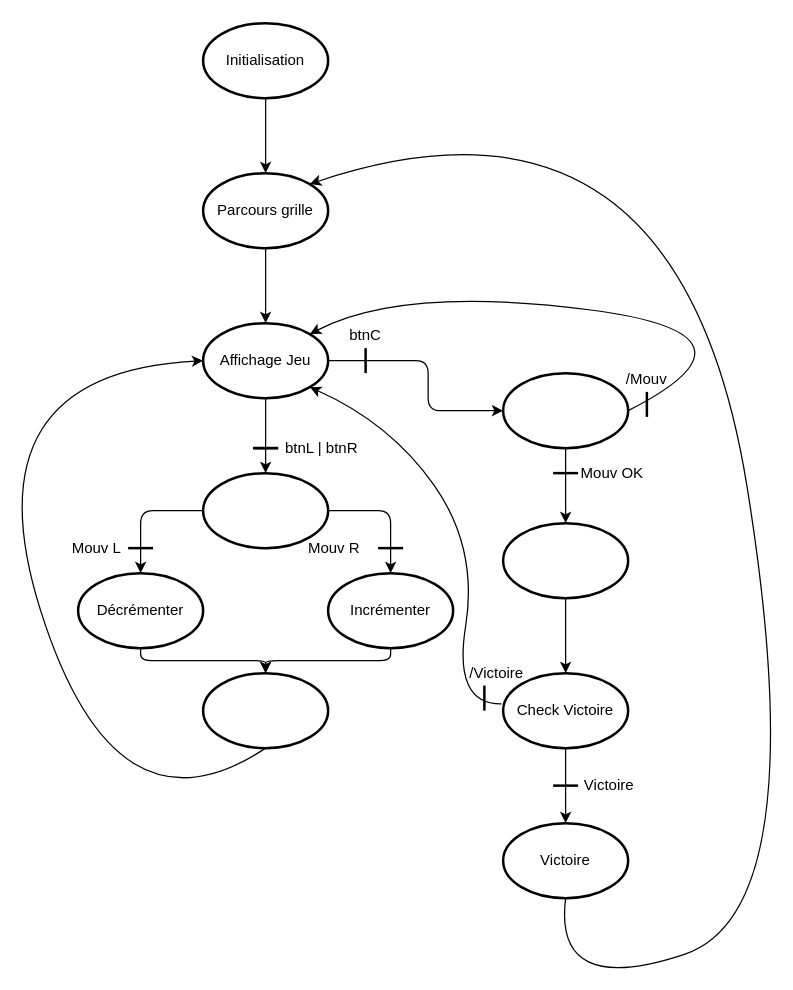
This 793x990 diagram has some shape labels left out. The shapes that lost their labels are listed below. From the top down, each one's box as (x1, y1, x2, y2) in pixels, then its label:
(501, 371, 629, 449): Check Mouvement
(201, 471, 329, 549): Effacer Position
(501, 521, 629, 599): Ecriture Mouvement
(201, 671, 329, 749): Ecriture Position
